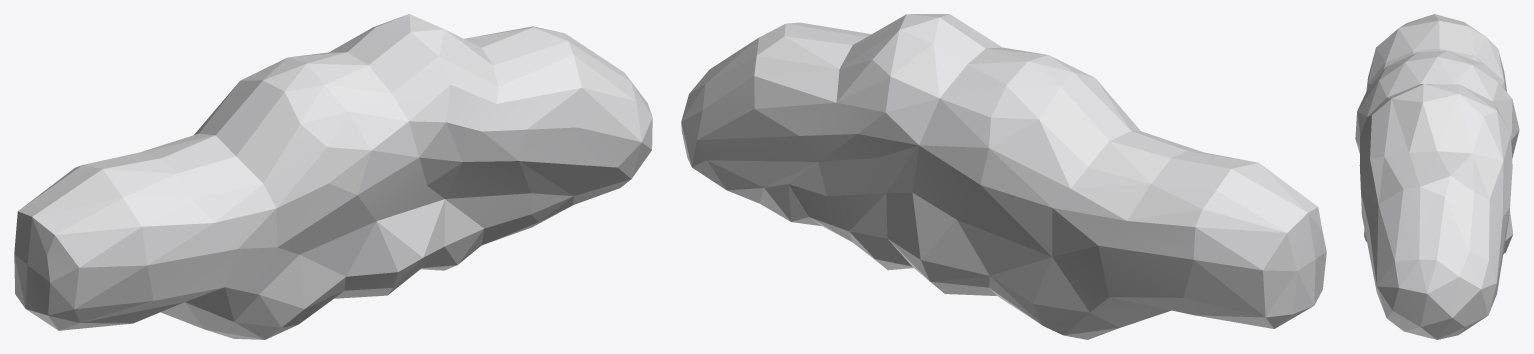
Rendered from big_cloud_4.fbx.
3 renders of one model, left to right at view 1: azimuth 30°, elevation 25°; view 2: azimuth 150°, elevation 25°; view 3: azimuth 270°, elevation 25°, orthographic. The views are drawn at different scales.
Parts seen in each view (by area): view 1: cloud_44; view 2: cloud_44; view 3: cloud_44.
Part boxes in pixels (x1=…): cloud_44: x1=14, y1=14, x2=652, y2=339; cloud_44: x1=681, y1=14, x2=1326, y2=339; cloud_44: x1=1355, y1=14, x2=1519, y2=339.
Bounding box in the file's own units: 933 × 386 × 254.
